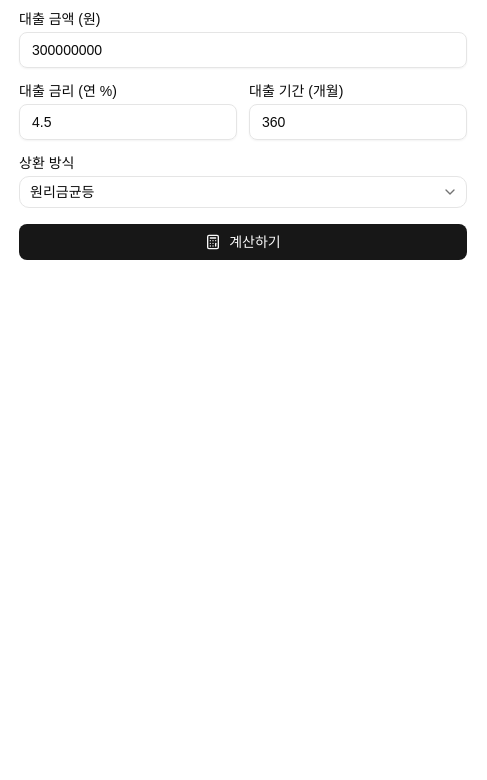
LoanCalculator › toggles the repayment schedule table
Click the button "계산하기": (243, 242) [19,224,467,260]
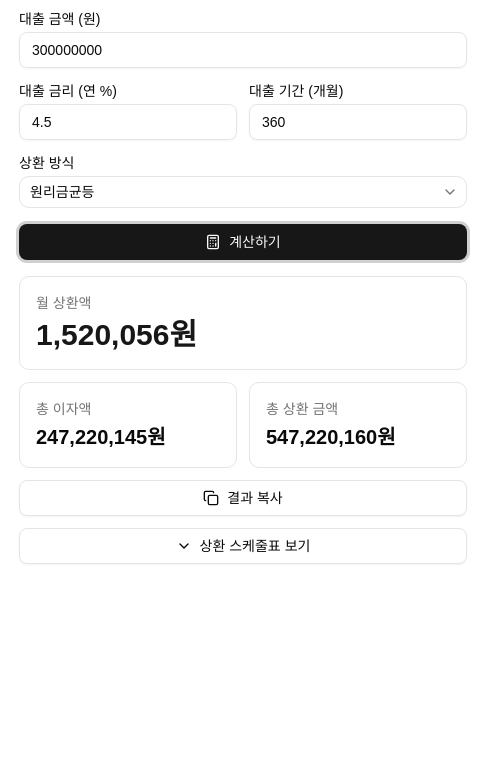
Expected: the text "회차" is not shown
Click the button "상환 스케줄표 보기": (243, 546) [19,528,467,564]
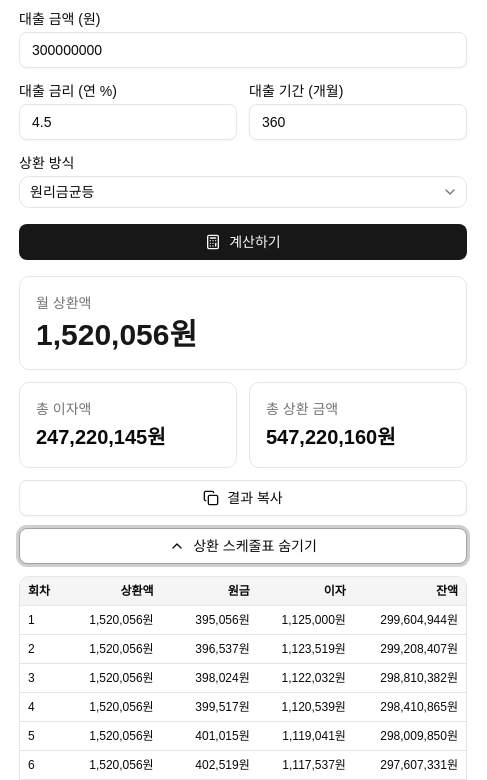
Expected: the column heading "회차" is shown, [20,577,66,606]
Click the button "상환 스케줄표 숨기기": (243, 546) [19,528,467,564]
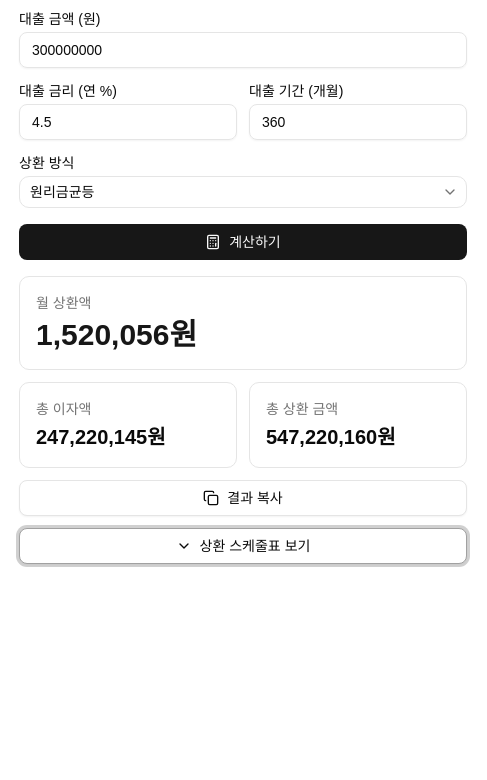
Expected: the column heading "회차" is gone
